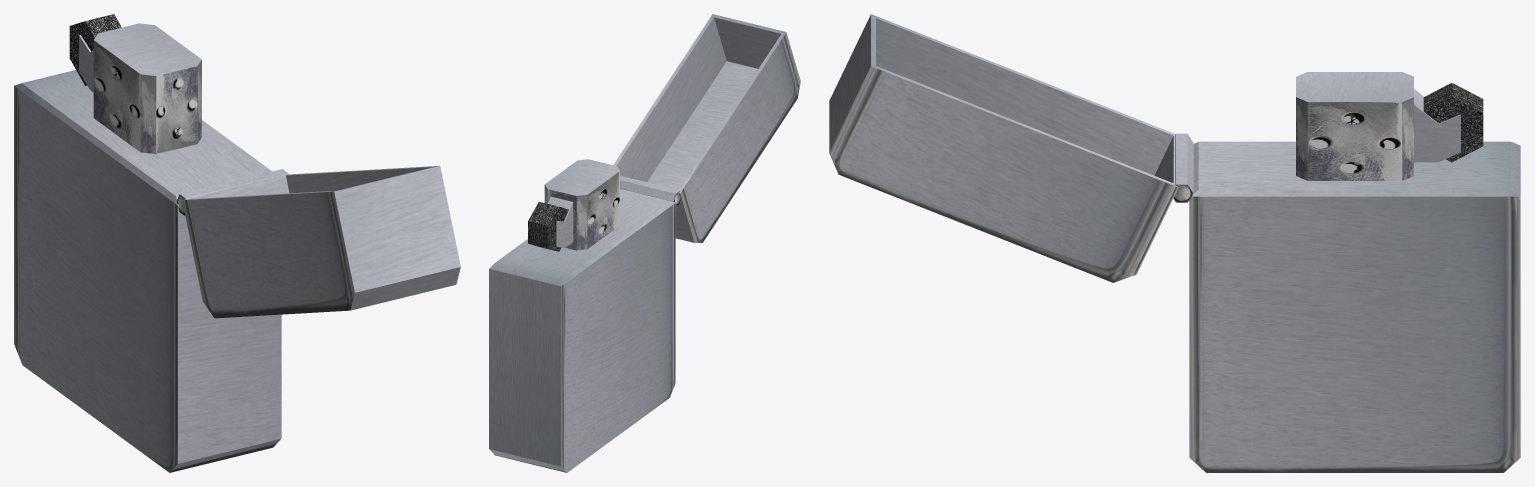
File: lighter.glb
3 renders of one model, left to right at view 1: azimuth 30°, elevation 25°; view 2: azimuth 150°, elevation 25°; view 3: azimuth 270°, elevation 25°, orthographic. The views are drawn at different scales.
Parts seen in each view (by area): view 1: Cube, Cube.001, Cylinder.001, Cylinder; view 2: Cube, Cube.001, Cylinder.001, Cylinder; view 3: Cube, Cube.001, Cylinder.001, Cylinder.
Boxes of the visible parts, bbox=[...] form: Cube: bbox=[14, 23, 281, 472]; Cube.001: bbox=[182, 165, 460, 318]; Cylinder.001: bbox=[69, 14, 121, 85]; Cylinder: bbox=[176, 169, 288, 215]; Cube: bbox=[489, 159, 675, 472]; Cube.001: bbox=[613, 14, 800, 242]; Cylinder.001: bbox=[528, 202, 568, 251]; Cylinder: bbox=[620, 176, 680, 205]; Cube: bbox=[1189, 72, 1520, 472]; Cube.001: bbox=[829, 14, 1178, 282]; Cylinder.001: bbox=[1423, 83, 1483, 162]; Cylinder: bbox=[1173, 133, 1193, 202].
Bounding box in the file's own units: 0.5795 × 2.11 × 3.24.
Materials: 4 (4 with a texture image).
